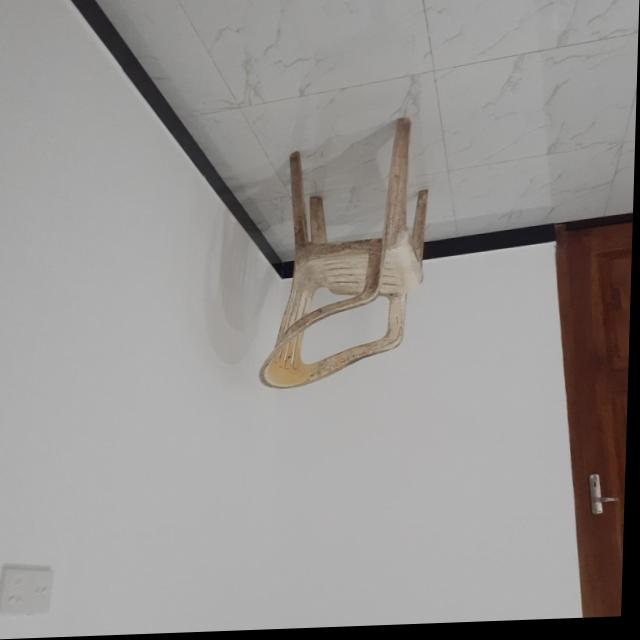Chair: (259, 118, 434, 393)
